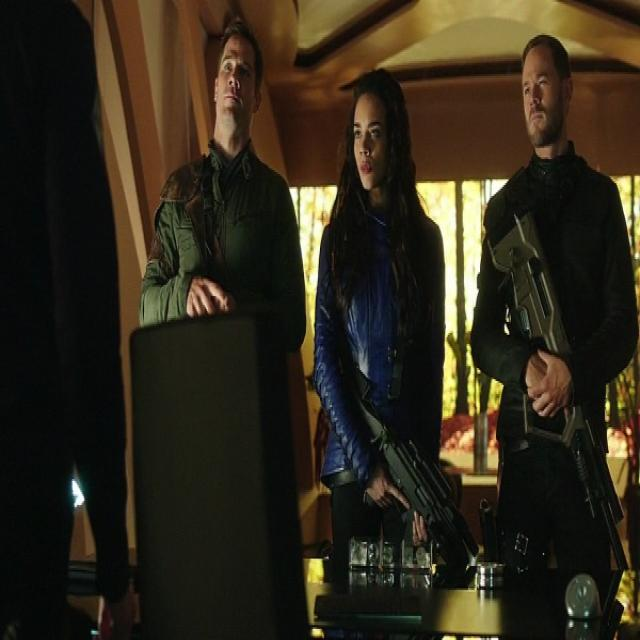rifle: (487, 201, 633, 576)
